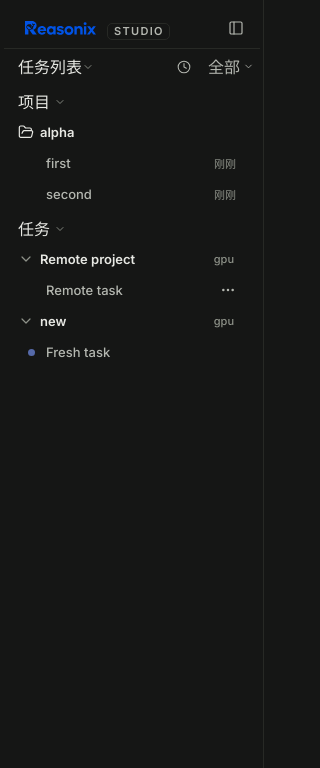
it: leaves a remote runtime-only project to its own row when the projects head folds
Click the button with aria-label "收起所有项目": point(112, 102) [10,88,214,116]
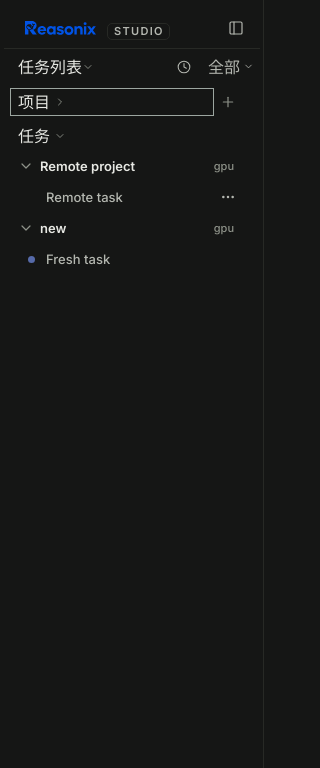
Check: the list item "Fresh task" is shown, box [28,251,110,267]
Click the list item with class "rmtwsrow" showing "new gpu": point(26, 228) [18,220,234,236]
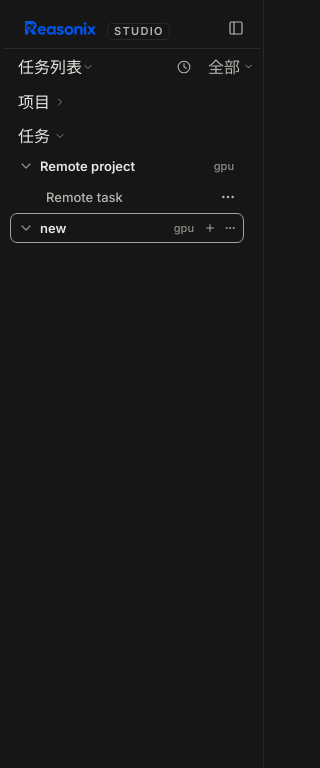
Check: the list item with class "rmtwsrow" is collapsed, box [10,213,244,243]
Check: the text "Fresh task" is gone
